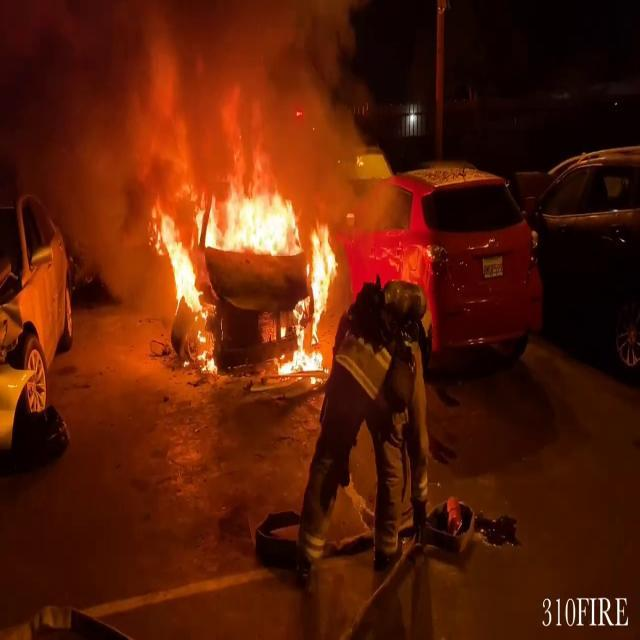Fire: (152, 159, 342, 373)
Smoke: (0, 0, 398, 247)
